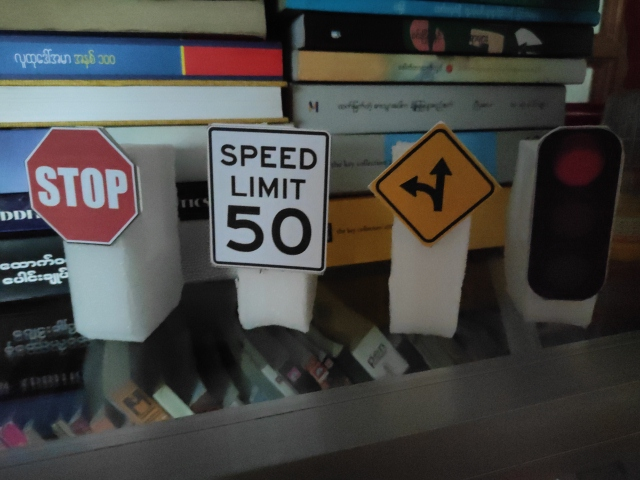Red Traffic Light: (527, 123, 624, 301)
Speed Limit 50: (207, 124, 331, 273)
Stop Sign: (24, 127, 141, 246)
Straight Or Left Sign: (374, 127, 499, 245)
